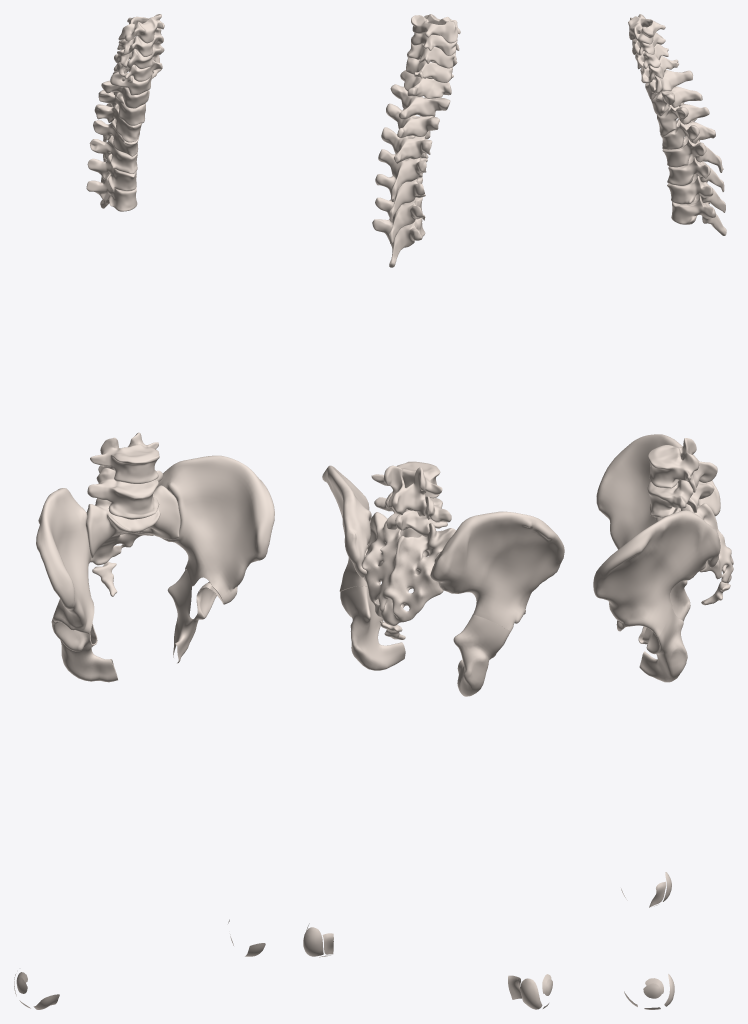
File: female-a-skelett-0.glb
The picture shows the model from 3 angles, left to right: view 1: azimuth 30°, elevation 25°; view 2: azimuth 150°, elevation 25°; view 3: azimuth 270°, elevation 25°; orthographic projection. The views are drawn at different scales.
Visible parts, largest first — view 1: VH_F_ilium_compact_bone_L, VH_F_ilium_compact_bone_R, VH_F_sacrum, VH_F_lumbar_vertebra_6, VH_F_lumbar_vertebra_5, VH_F_ischium_compact_bone_R, VH_F_ischium_spongy_bone_L, VH_F_thoracic_vertebra_7, VH_F_thoracic_vertebra_6, VH_F_thoracic_vertebra_5, VH_F_cervical_vertebra_3, VH_F_thoracic_vertebra_3 (+6 smaller); view 2: VH_F_ilium_compact_bone_R, VH_F_sacrum, VH_F_ilium_compact_bone_L, VH_F_ischium_spongy_bone_L, VH_F_ischium_compact_bone_R, VH_F_lumbar_vertebra_5, VH_F_lumbar_vertebra_6, VH_F_thoracic_vertebra_1, VH_F_thoracic_vertebra_3, VH_F_thoracic_vertebra_4, VH_F_thoracic_vertebra_7, VH_F_thoracic_vertebra_2 (+7 smaller); view 3: VH_F_ilium_compact_bone_L, VH_F_ilium_compact_bone_R, VH_F_lumbar_vertebra_5, VH_F_ischium_spongy_bone_L, VH_F_lumbar_vertebra_6, VH_F_sacrum, VH_F_thoracic_vertebra_7, VH_F_thoracic_vertebra_6, VH_F_thoracic_vertebra_4, VH_F_thoracic_vertebra_5, VH_F_thoracic_vertebra_3, VH_F_thoracic_vertebra_2 (+7 smaller).
Boxes of the visible parts, <box> form: VH_F_ilium_compact_bone_L: <box>157,455,274,604</box>; VH_F_ilium_compact_bone_R: <box>36,488,94,634</box>; VH_F_sacrum: <box>86,485,180,565</box>; VH_F_lumbar_vertebra_6: <box>87,468,162,519</box>; VH_F_lumbar_vertebra_5: <box>90,432,159,483</box>; VH_F_ischium_compact_bone_R: <box>52,622,117,682</box>; VH_F_ischium_spongy_bone_L: <box>167,569,216,663</box>; VH_F_thoracic_vertebra_7: <box>86,174,137,211</box>; VH_F_thoracic_vertebra_6: <box>87,154,136,191</box>; VH_F_thoracic_vertebra_5: <box>89,135,137,173</box>; VH_F_cervical_vertebra_3: <box>118,14,164,43</box>; VH_F_thoracic_vertebra_3: <box>94,103,142,142</box>; VH_F_ilium_compact_bone_R: <box>430,511,564,631</box>; VH_F_sacrum: <box>362,512,455,625</box>; VH_F_ilium_compact_bone_L: <box>322,465,380,591</box>; VH_F_ischium_spongy_bone_L: <box>340,586,405,670</box>; VH_F_ischium_compact_bone_R: <box>453,615,510,696</box>; VH_F_lumbar_vertebra_5: <box>371,461,442,516</box>; VH_F_lumbar_vertebra_6: <box>374,492,451,536</box>; VH_F_thoracic_vertebra_1: <box>390,84,450,119</box>; VH_F_thoracic_vertebra_3: <box>381,127,432,163</box>; VH_F_thoracic_vertebra_4: <box>378,149,427,201</box>; VH_F_thoracic_vertebra_7: <box>372,218,425,267</box>; VH_F_thoracic_vertebra_2: <box>386,103,439,138</box>; VH_F_ilium_compact_bone_L: <box>593,510,720,636</box>; VH_F_ilium_compact_bone_R: <box>596,434,720,549</box>; VH_F_lumbar_vertebra_5: <box>648,438,717,492</box>; VH_F_ischium_spongy_bone_L: <box>639,608,687,682</box>; VH_F_lumbar_vertebra_6: <box>647,479,714,517</box>; VH_F_sacrum: <box>654,503,733,583</box>; VH_F_thoracic_vertebra_7: <box>671,194,726,235</box>; VH_F_thoracic_vertebra_6: <box>667,174,725,212</box>; VH_F_thoracic_vertebra_4: <box>662,135,723,172</box>; VH_F_thoracic_vertebra_5: <box>667,154,724,191</box>; VH_F_thoracic_vertebra_3: <box>660,118,715,149</box>; VH_F_thoracic_vertebra_2: <box>657,102,709,135</box>.
Size of the model in its own units: 0.2816 by 1.08 by 0.1462.
